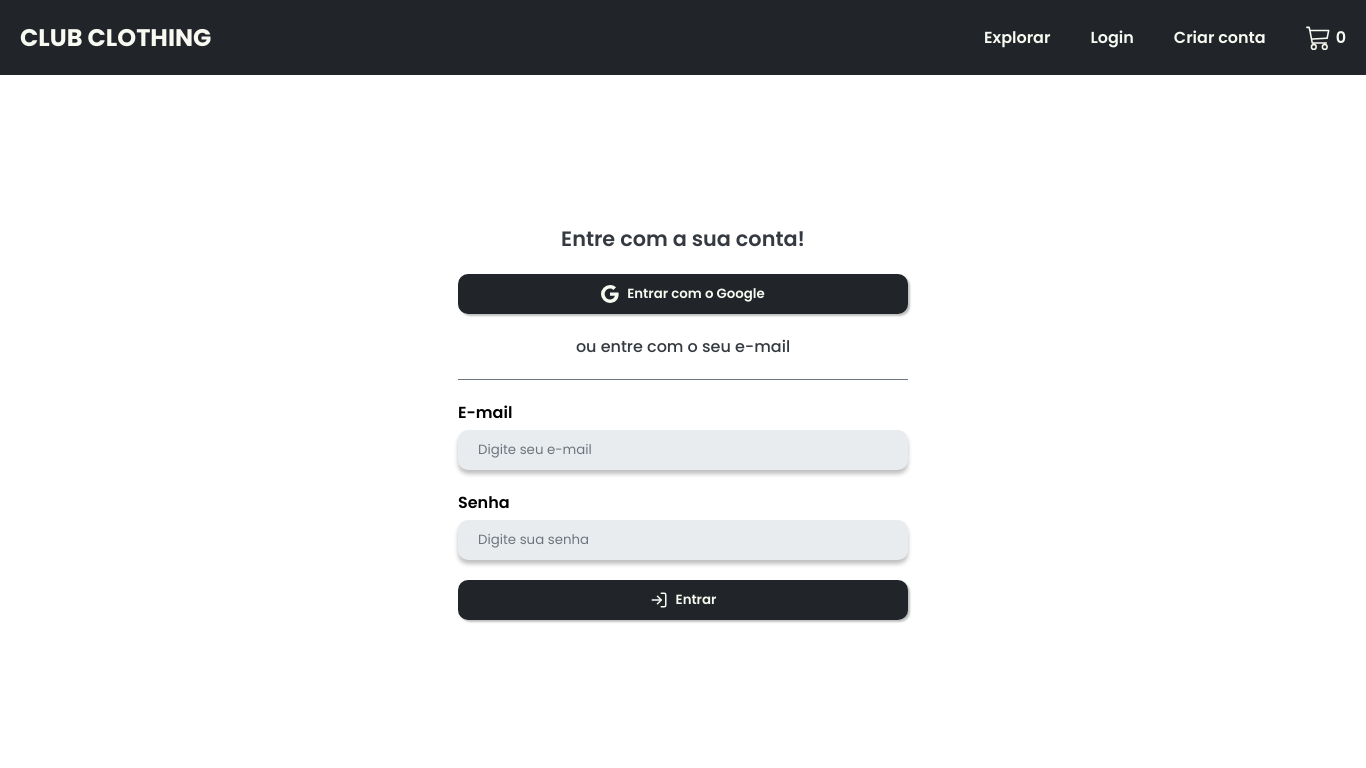
Test: Login › should show an error if email is not found
Type "lorem@ipsum.com" into the field with placeholder "Digite seu e-mail".
click(683, 450); type("lorem@ipsum.com")  # box left=458, top=430, right=908, bottom=470
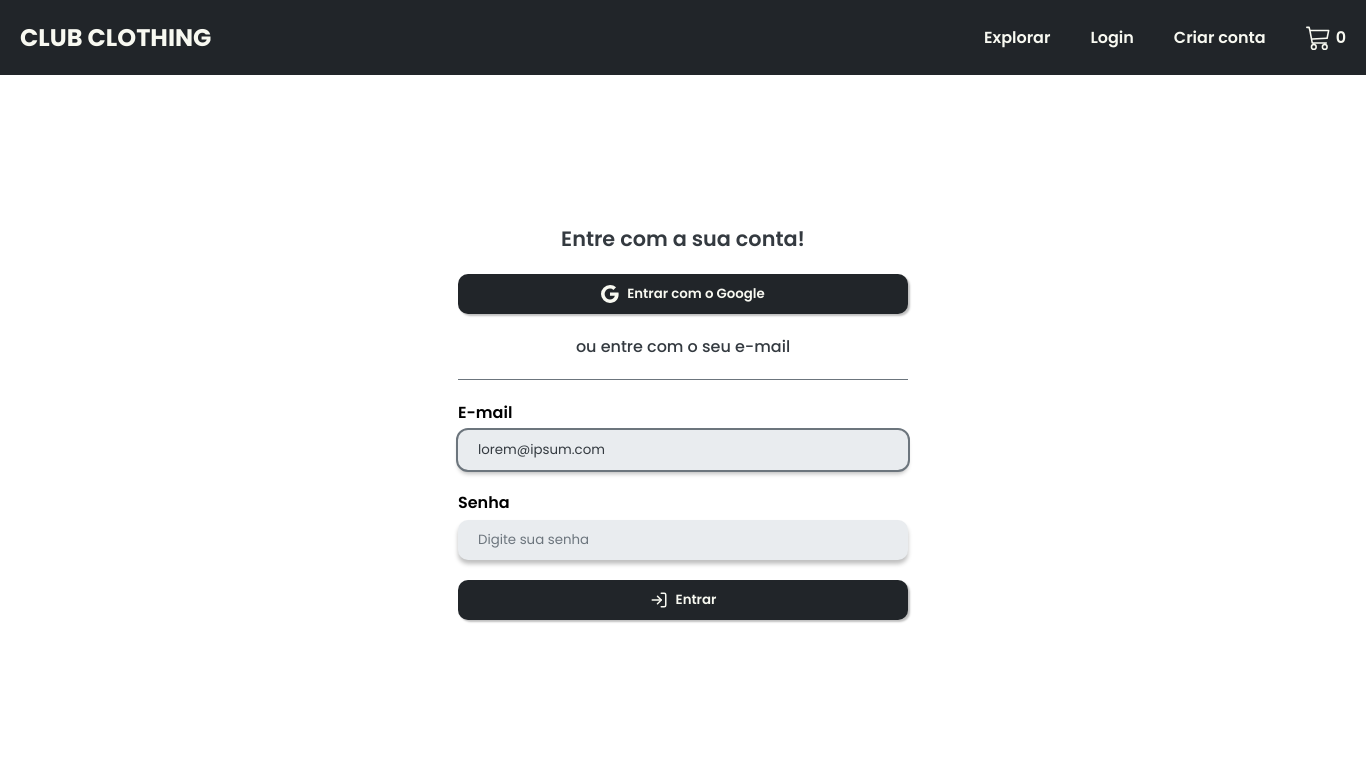
Type "123456" into the password field with placeholder "Digite sua senha".
click(683, 540); type("123456")  # box left=458, top=520, right=908, bottom=560
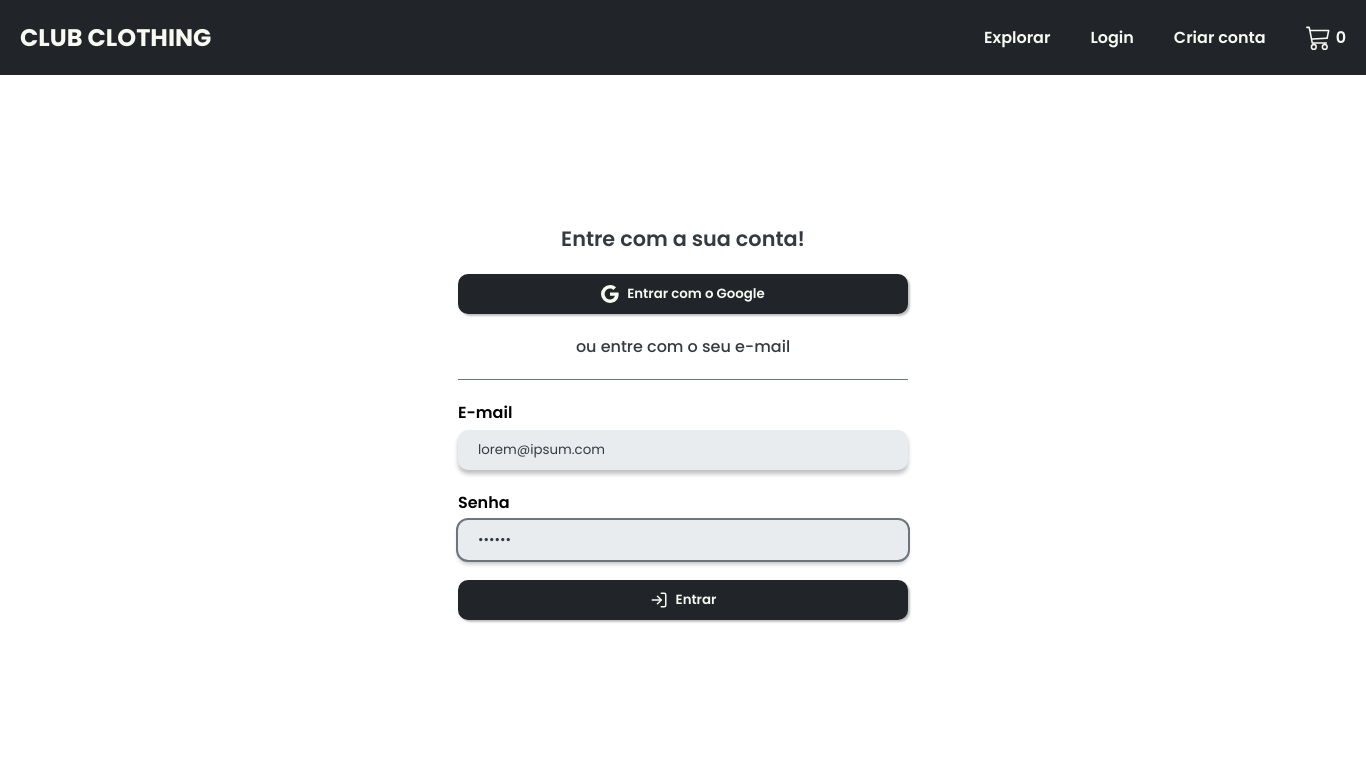
Click the button with test id "login-submit".
click(683, 600)  # box left=458, top=580, right=908, bottom=620
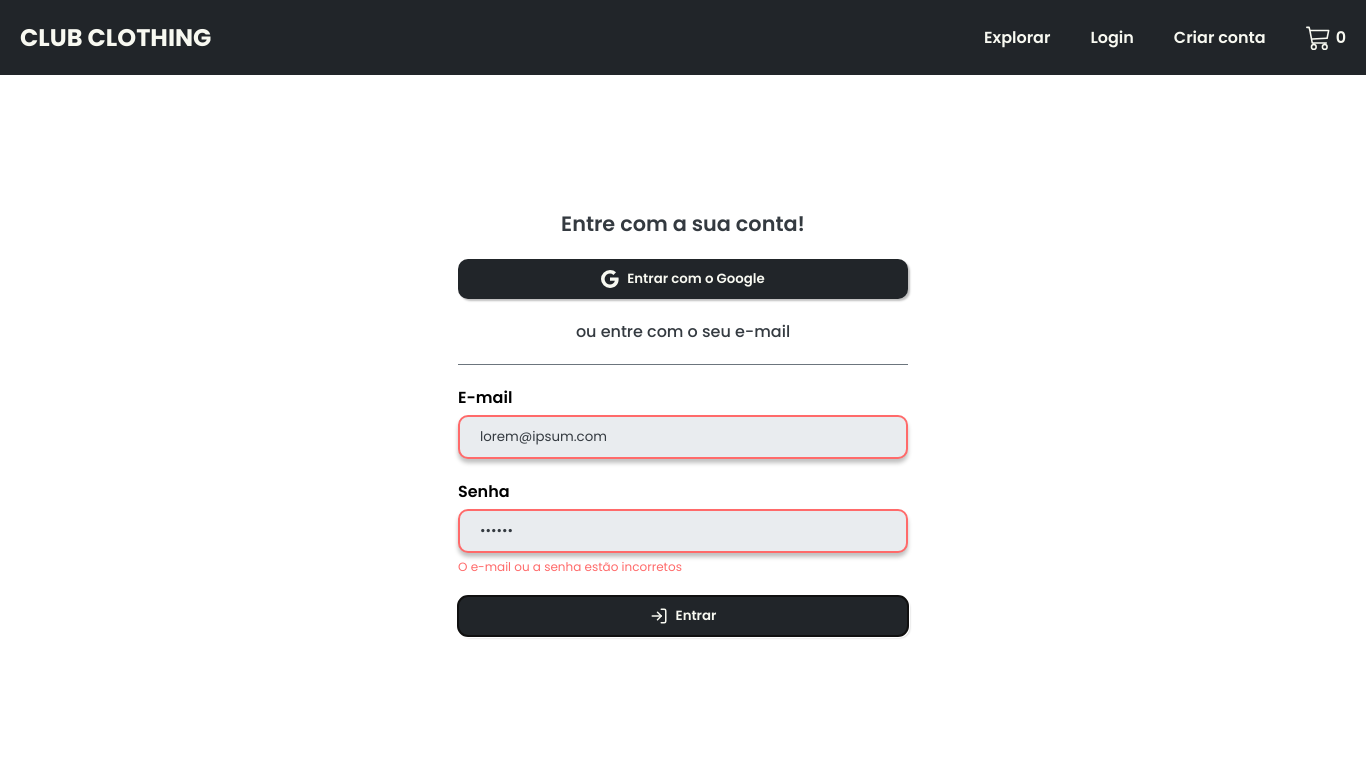
Expected: the text "O e-mail ou a senha estão incorretos" is shown, left=458, top=558, right=682, bottom=574
